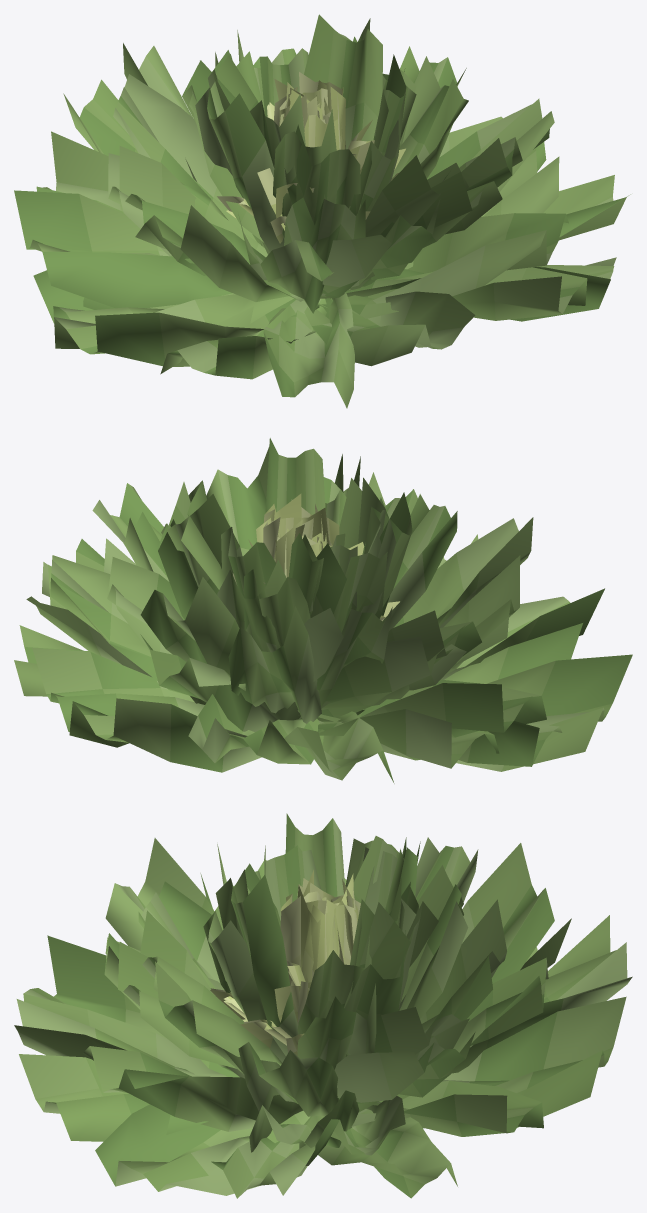
Rendered from salade_frisee_mur.glb.
3 renders of one model, top to bottom at view 1: azimuth 30°, elevation 25°; view 2: azimuth 150°, elevation 25°; view 3: azimuth 270°, elevation 25°, orthographic. The views are drawn at different scales.
Visible parts, largest first — view 1: Salade_Feuilles_ext, Salade_Feuilles_int; view 2: Salade_Feuilles_ext, Salade_Feuilles_int; view 3: Salade_Feuilles_ext, Salade_Feuilles_int.
Part boxes in pixels (<box>): Salade_Feuilles_ext: <box>14,14,630,408</box>; Salade_Feuilles_int: <box>217,72,405,243</box>; Salade_Feuilles_ext: <box>14,438,632,783</box>; Salade_Feuilles_int: <box>233,493,399,620</box>; Salade_Feuilles_ext: <box>14,813,632,1198</box>; Salade_Feuilles_int: <box>210,870,360,1055</box>.
Size of the model in its own units: 0.7277 by 0.3321 by 0.6694.
